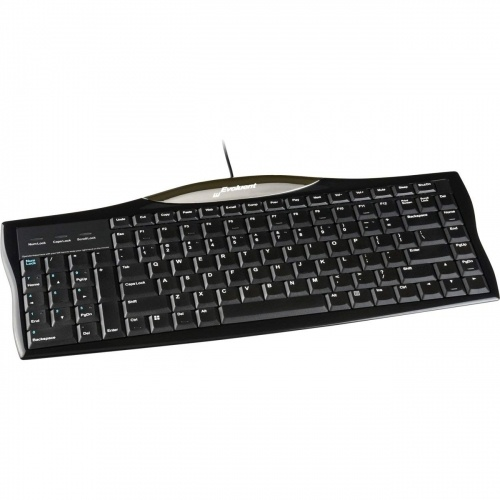Teclado: (4, 155, 500, 359)
